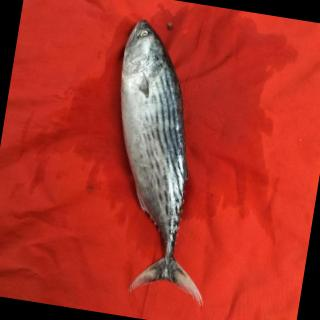Ikan: (78, 11, 248, 307)
